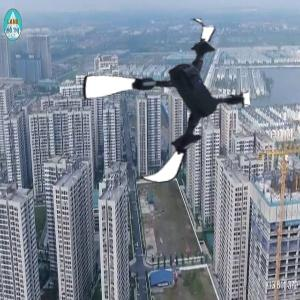drone: (84, 19, 251, 186)
